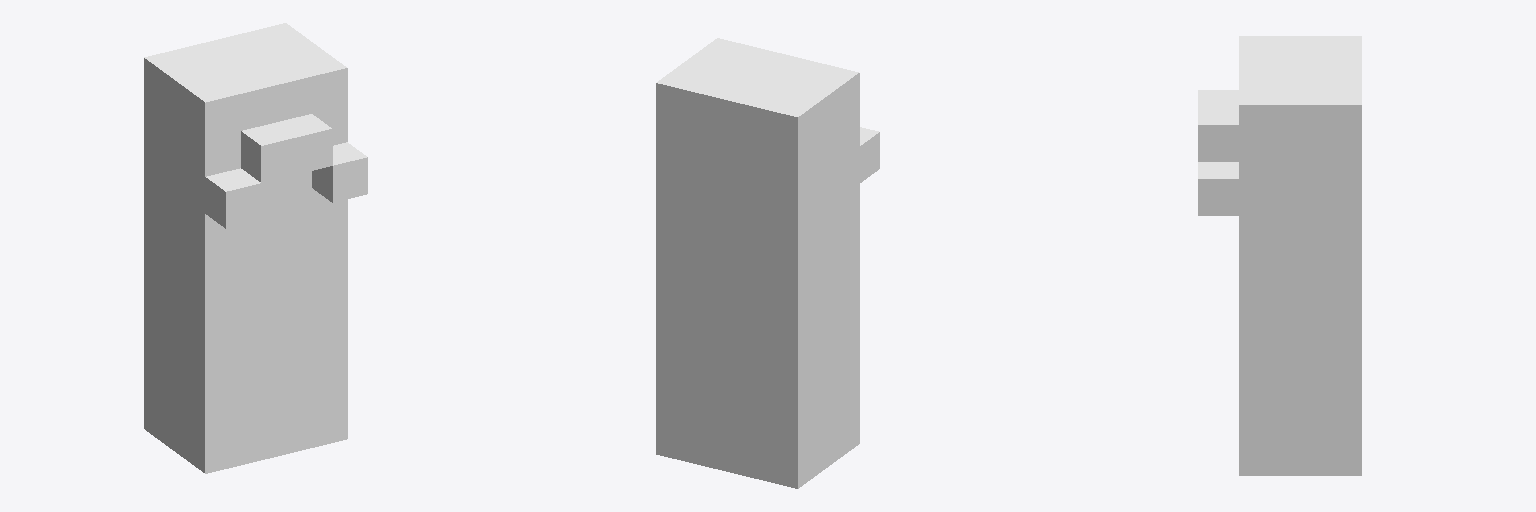
File: SimpleSecurityGuardTorso.obj
The picture shows the model from 3 angles: view 1: azimuth 30°, elevation 25°; view 2: azimuth 150°, elevation 25°; view 3: azimuth 270°, elevation 25°; orthographic projection.
Bounding box in the file's own units: 4 × 10 × 4.